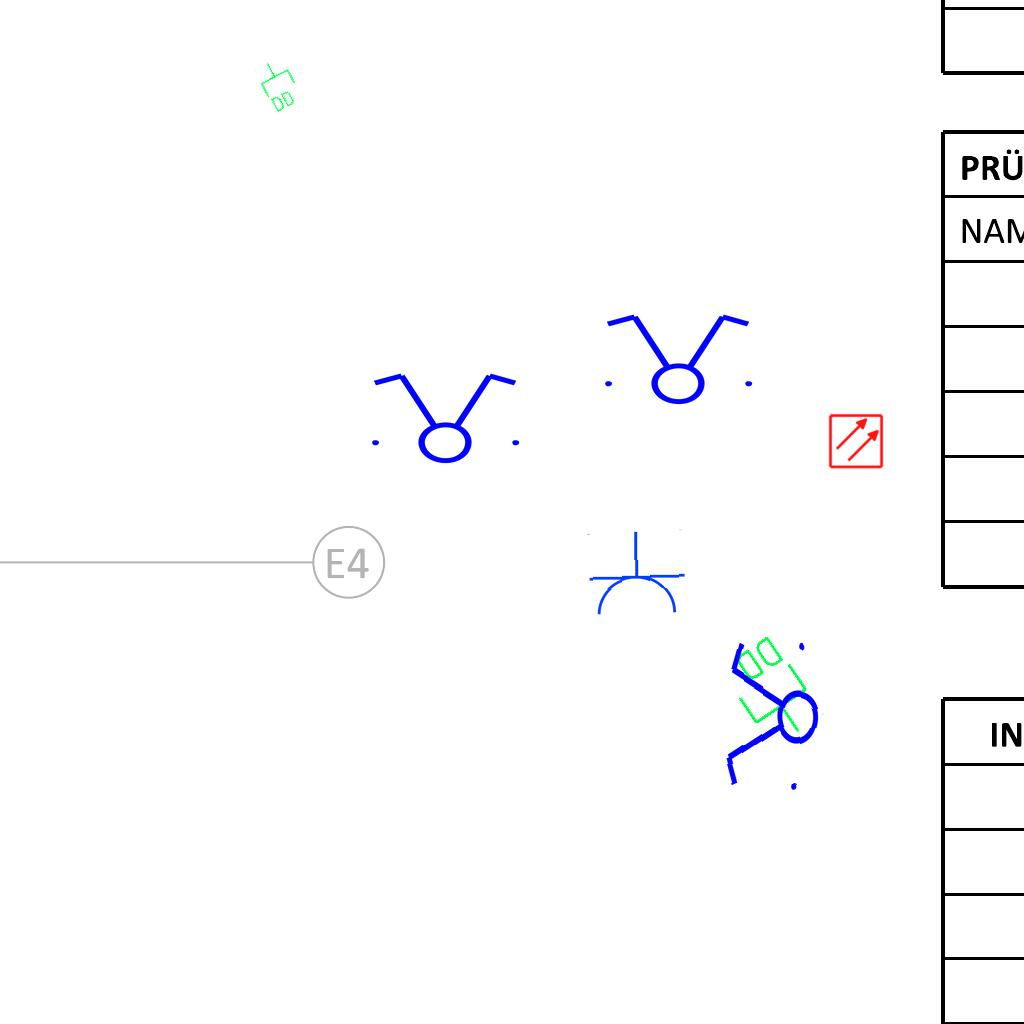Datenanschluss_zweifach: (714, 628, 829, 753), (251, 54, 306, 116)
RMO_Rauchmelder_optischer: (828, 413, 884, 469)
Schukosteckdose_einfach: (584, 529, 688, 620)
Serienschalter: (719, 630, 825, 804), (593, 310, 761, 406), (360, 369, 528, 465)
